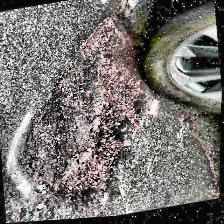pothole: (5, 6, 170, 214)
